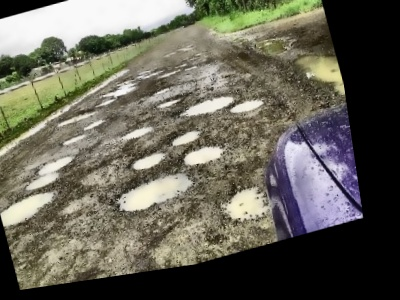pothole: (109, 165, 198, 217), (217, 181, 273, 228), (0, 188, 59, 228), (173, 92, 236, 120), (178, 140, 225, 169), (32, 152, 77, 178), (129, 148, 167, 172), (21, 171, 61, 193), (167, 126, 204, 149), (226, 95, 264, 116), (54, 107, 96, 126), (98, 82, 137, 100), (120, 124, 153, 142), (152, 94, 186, 110), (59, 132, 86, 146), (80, 117, 107, 130), (92, 96, 117, 108), (149, 85, 172, 96)
